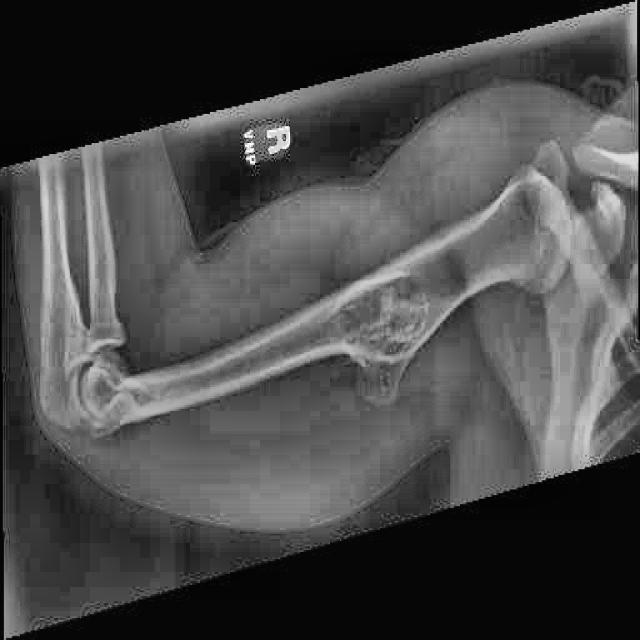humerus: (313, 232, 461, 450)
